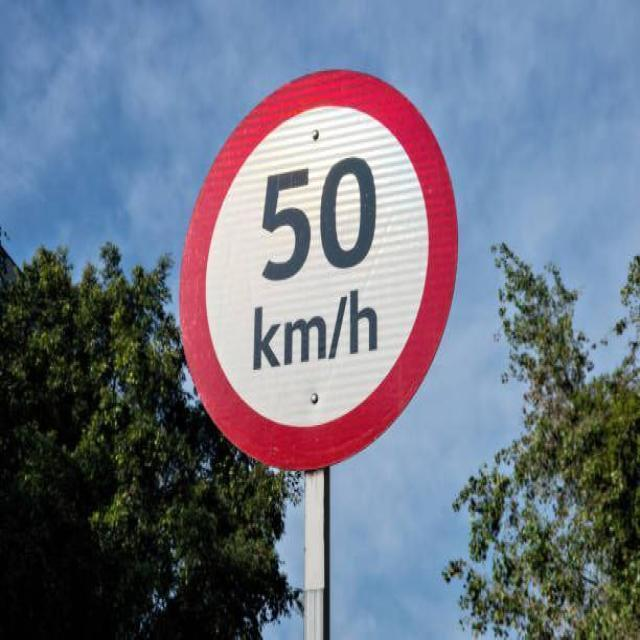speed limit 50: (177, 66, 456, 473)
